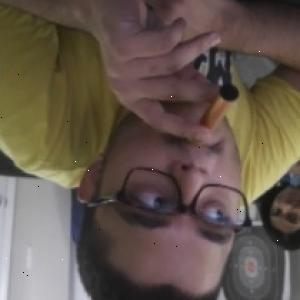Golden-E-Ciggirate: (194, 82, 243, 145)
